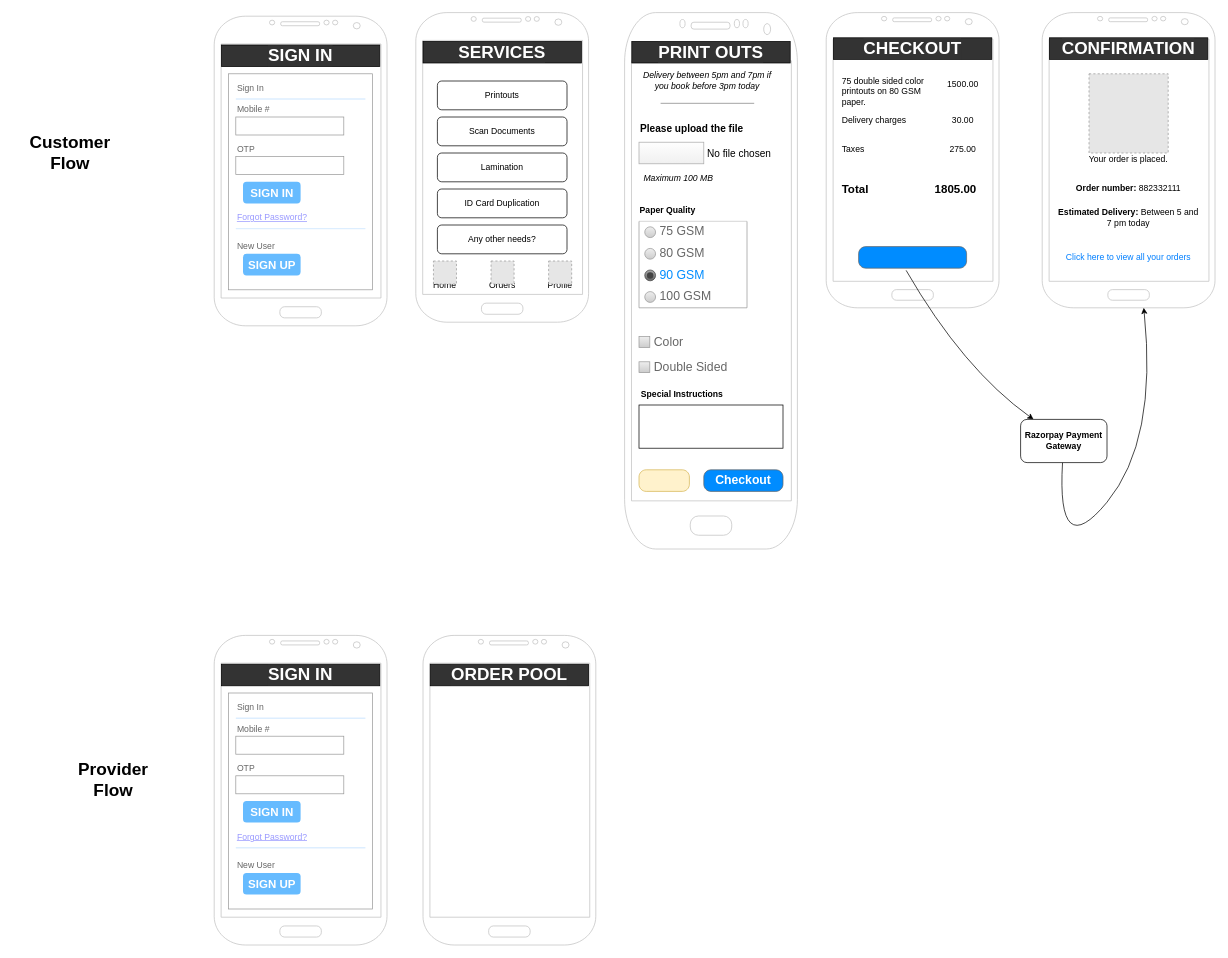
This 1228x958 diagram has some shape labels left out. Grey dashed boxes stand in for pictures. The centre of each missing label's shape, as x and y in pixels:
"Cancel" goes at (x=663, y=480).
"Choose File" goes at (x=671, y=152).
"Make payment" goes at (x=912, y=257).
